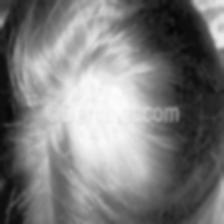Toxin: (62, 124, 140, 160), (70, 73, 130, 105)
